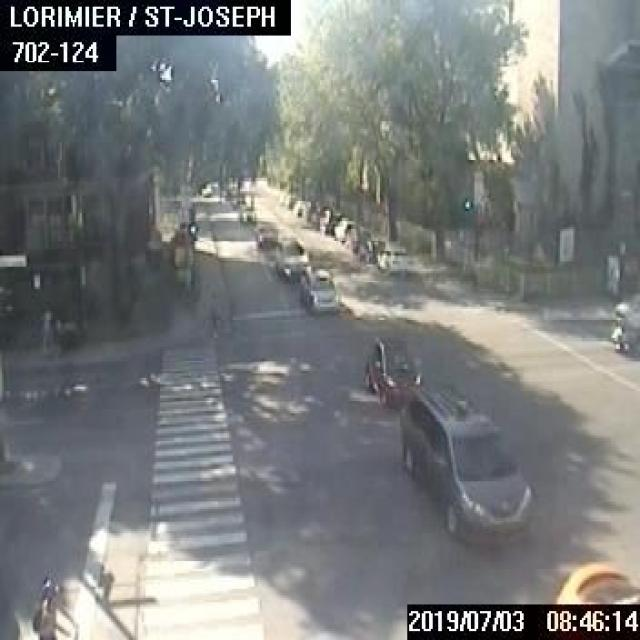pedestrian: (29, 566, 56, 638)
vehicle: (399, 389, 531, 540), (363, 334, 420, 398), (549, 562, 638, 602), (298, 266, 336, 312), (608, 298, 638, 353), (275, 233, 308, 278), (376, 244, 406, 270), (358, 237, 383, 262), (252, 222, 276, 247), (317, 208, 340, 233), (344, 226, 368, 249), (332, 216, 353, 239), (237, 205, 254, 222), (292, 198, 304, 215), (200, 183, 213, 195), (284, 194, 293, 206)
